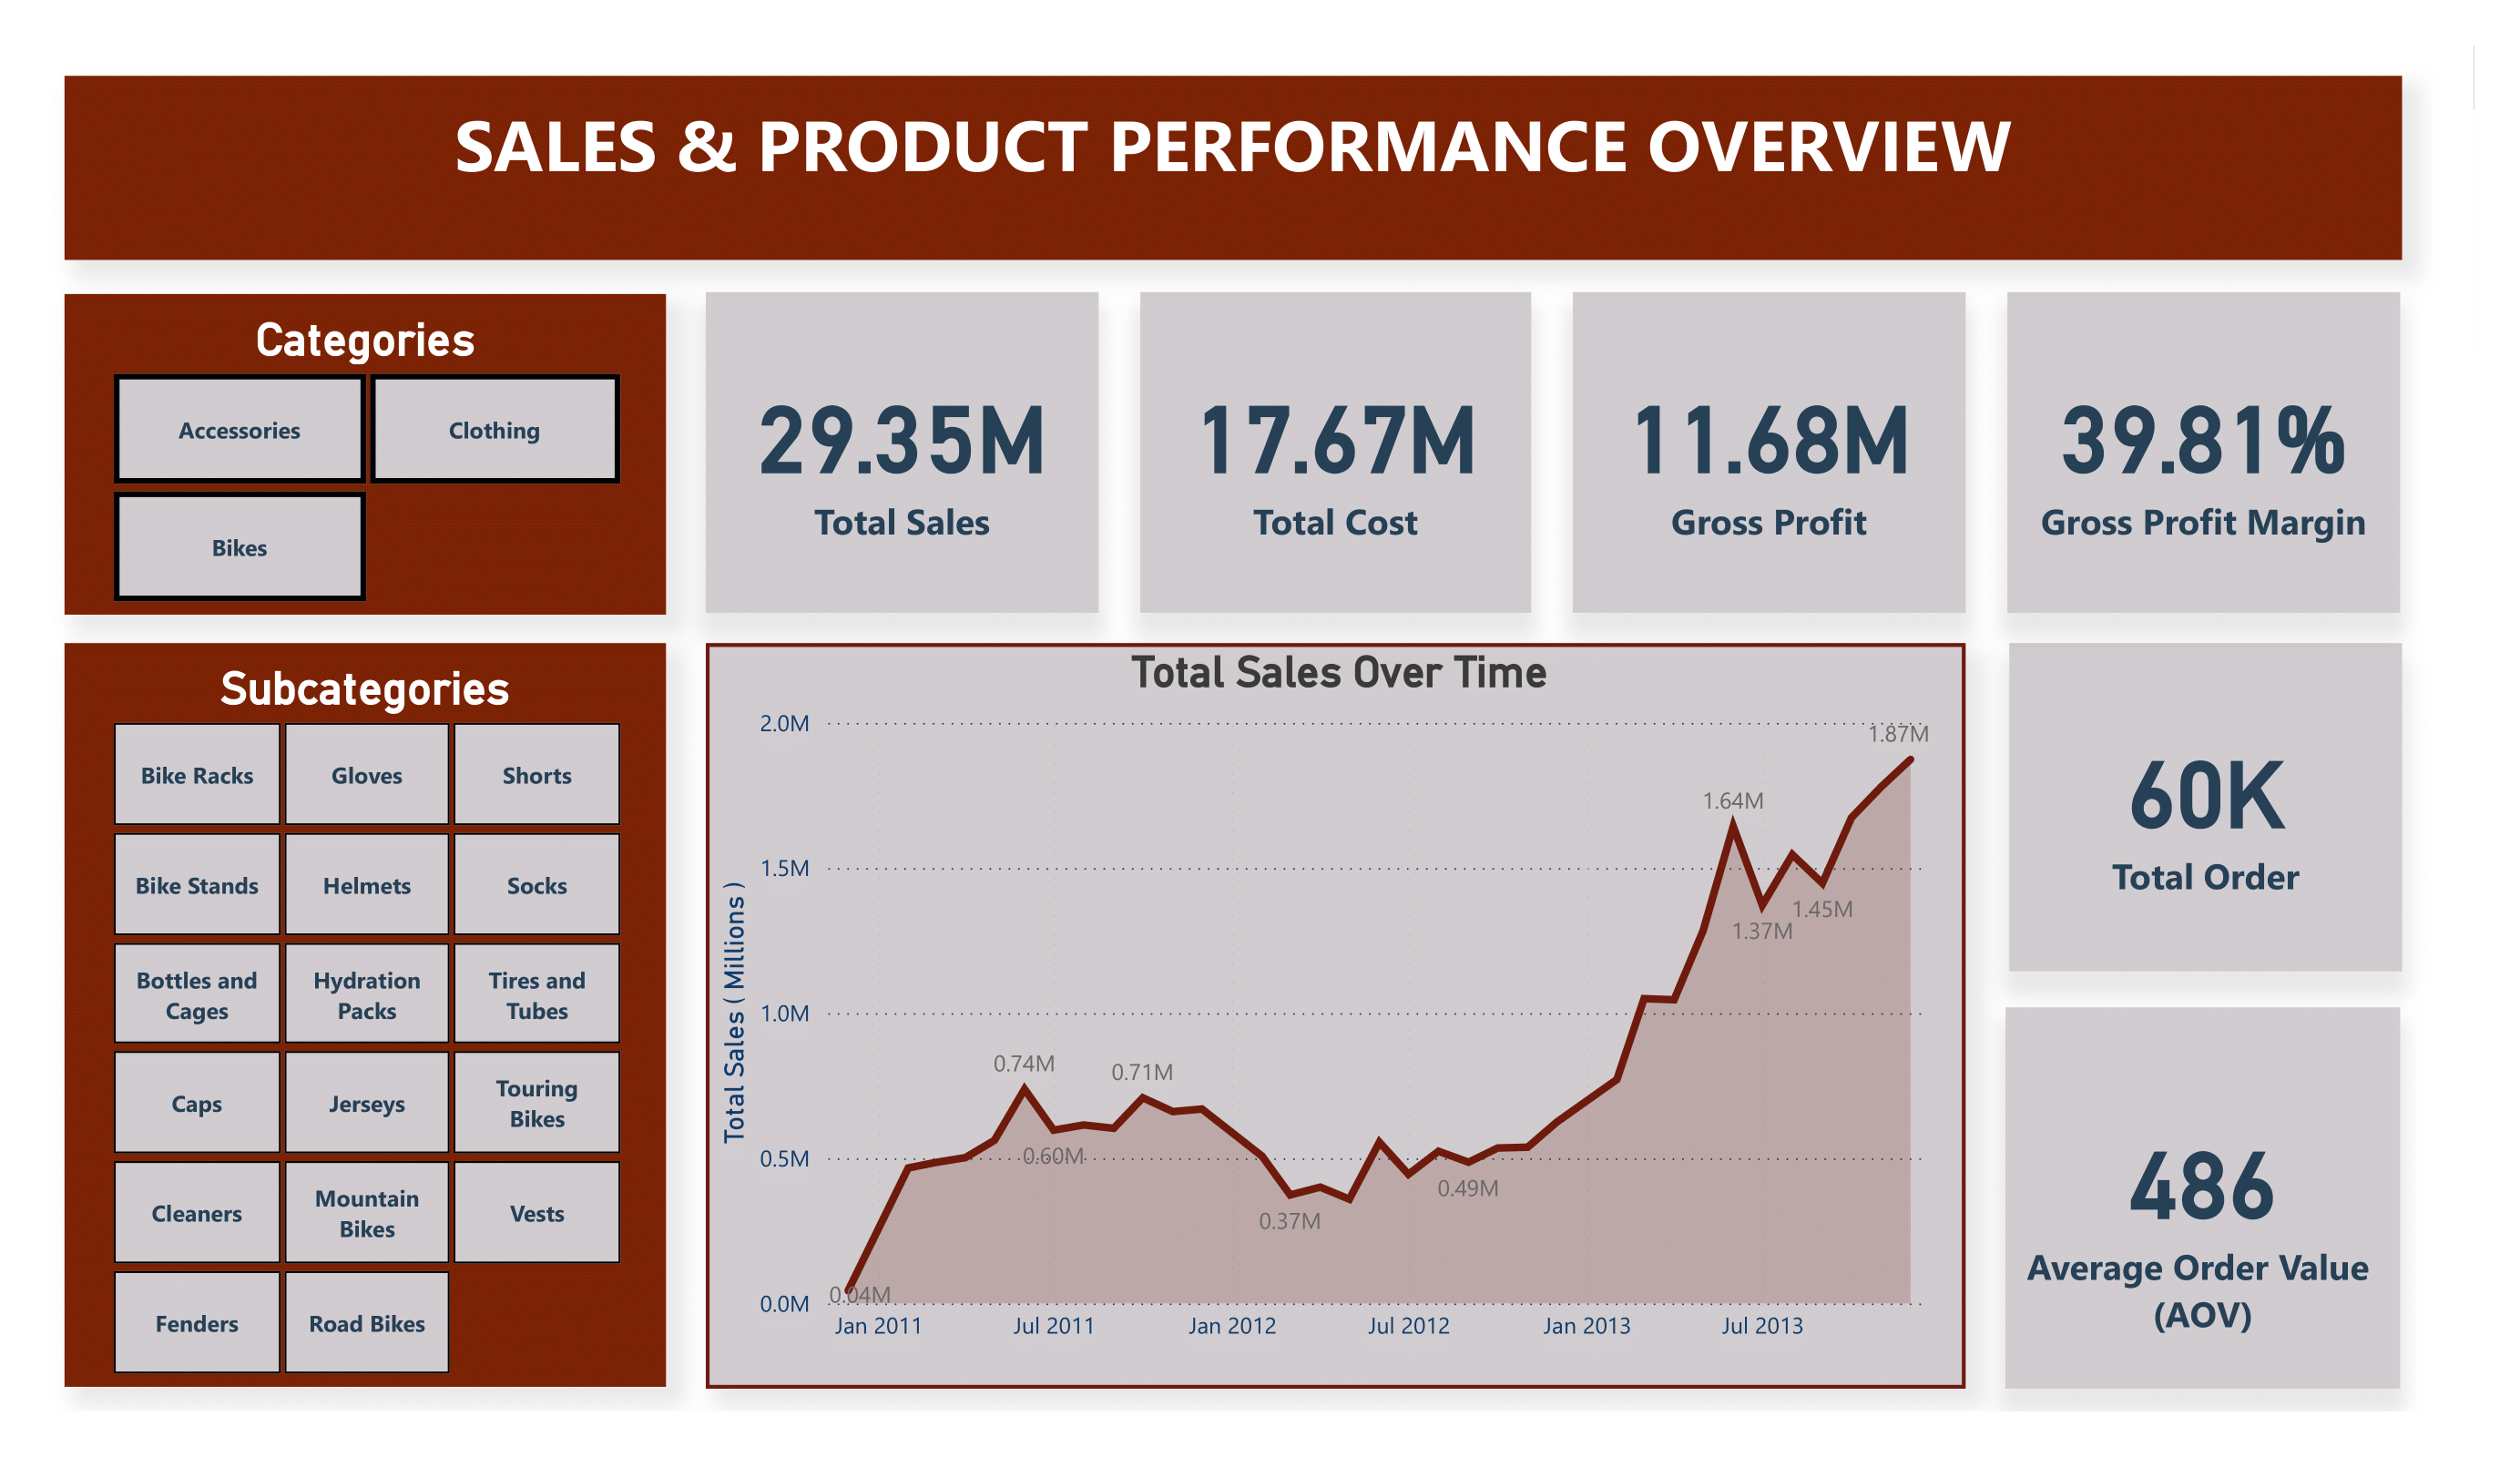

What the dashboard file says about the page in this screenshot:
{"tool":"powerbi","page":{"name":"1. sayfa","canvas":[1280,720],"ordinal":0},"visuals":[{"type":"card","fields":{"Values":["Sum(report_products.total_orders)"]},"box":[1034.5,314.5,207.3,173.6],"z":0},{"type":"card","fields":{"Values":["report_products.AVG_Order_Value_Measure"]},"box":[1033,507.5,207.5,200.7],"z":1000},{"type":"card","title":"Total Sales","fields":{"Values":["Sum(report_products.total_sales)"]},"box":[348.5,129.7,206.4,169.2],"z":2000},{"type":"slicer","title":"Subcategories","fields":{"Values":["report_products.subcategory"]},"box":[10,314.5,317.3,392.7],"z":3000},{"type":"slicer","title":"Categories","fields":{"Values":["report_products.category"]},"box":[10,130.9,317.3,169.1],"z":4000},{"type":"card","fields":{"Values":["report_products.Total Cost"]},"box":[577.4,129.7,205.3,169.2],"z":5000},{"type":"card","fields":{"Values":["report_products.Gross Profif"]},"box":[805.2,129.7,206.4,169.2],"z":6000},{"type":"card","fields":{"Values":["report_products.Gross Profit Marjin"]},"box":[1034.1,129.7,206.4,169.2],"z":7000},{"type":"textbox","box":[10,16.4,1231.8,96.4],"z":8000},{"type":"lineChart","title":"Total Sales Over Time","fields":{"Category":["report_sales_trend.order_date.Varyasyon.Tarih Hiyerarşisi.Yıl","report_sales_trend.order_date.Varyasyon.Tarih Hiyerarşisi.Ay"],"Y":["Sum(report_sales_trend.total_sales)"]},"box":[348.2,314.5,663.6,393.6],"z":9000}]}

Visuals, with their boxes in screenshot pixels (x1, y1, x2, y2):
card - Sum(report_products.total_orders): locate(2008, 642, 2402, 972)
card - report_products.AVG_Order_Value_Measure: locate(2005, 1008, 2400, 1389)
"Total Sales" card: locate(707, 291, 1098, 613)
"Subcategories" slicer: locate(65, 642, 667, 1387)
"Categories" slicer: locate(65, 294, 667, 615)
card - report_products.Total Cost: locate(1141, 291, 1531, 613)
card - report_products.Gross Profif: locate(1574, 291, 1965, 613)
card - report_products.Gross Profit Marjin: locate(2008, 291, 2400, 613)
textbox: locate(65, 76, 2402, 260)
"Total Sales Over Time" lineChart: locate(707, 642, 1965, 1389)
